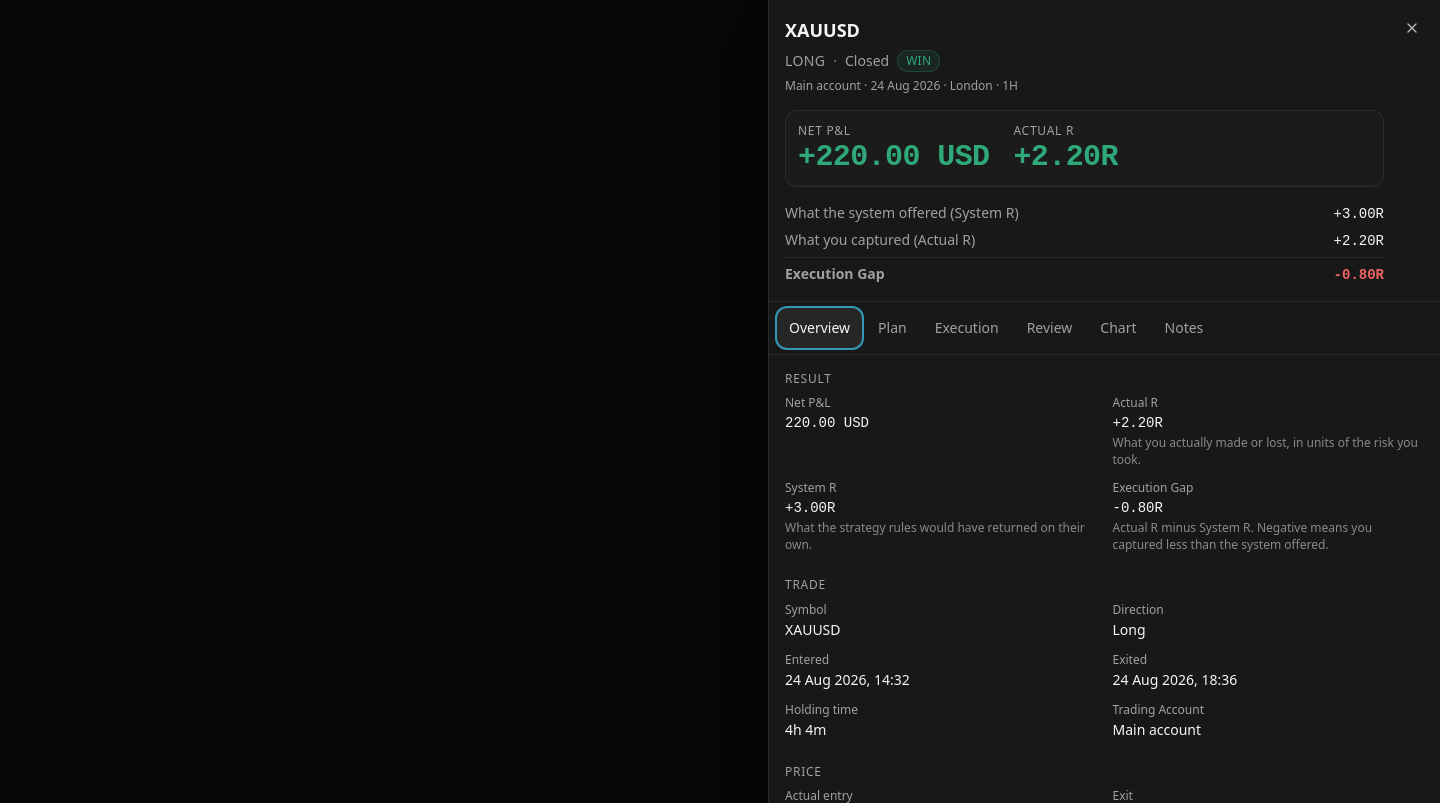
Trade Details — Plan and Confidence › reports an unrecorded Confidence honestly, and never fills it in from the result
The image size is (1440, 803).
Click the tab "Plan" at (892, 328), box [866,308,919,348]
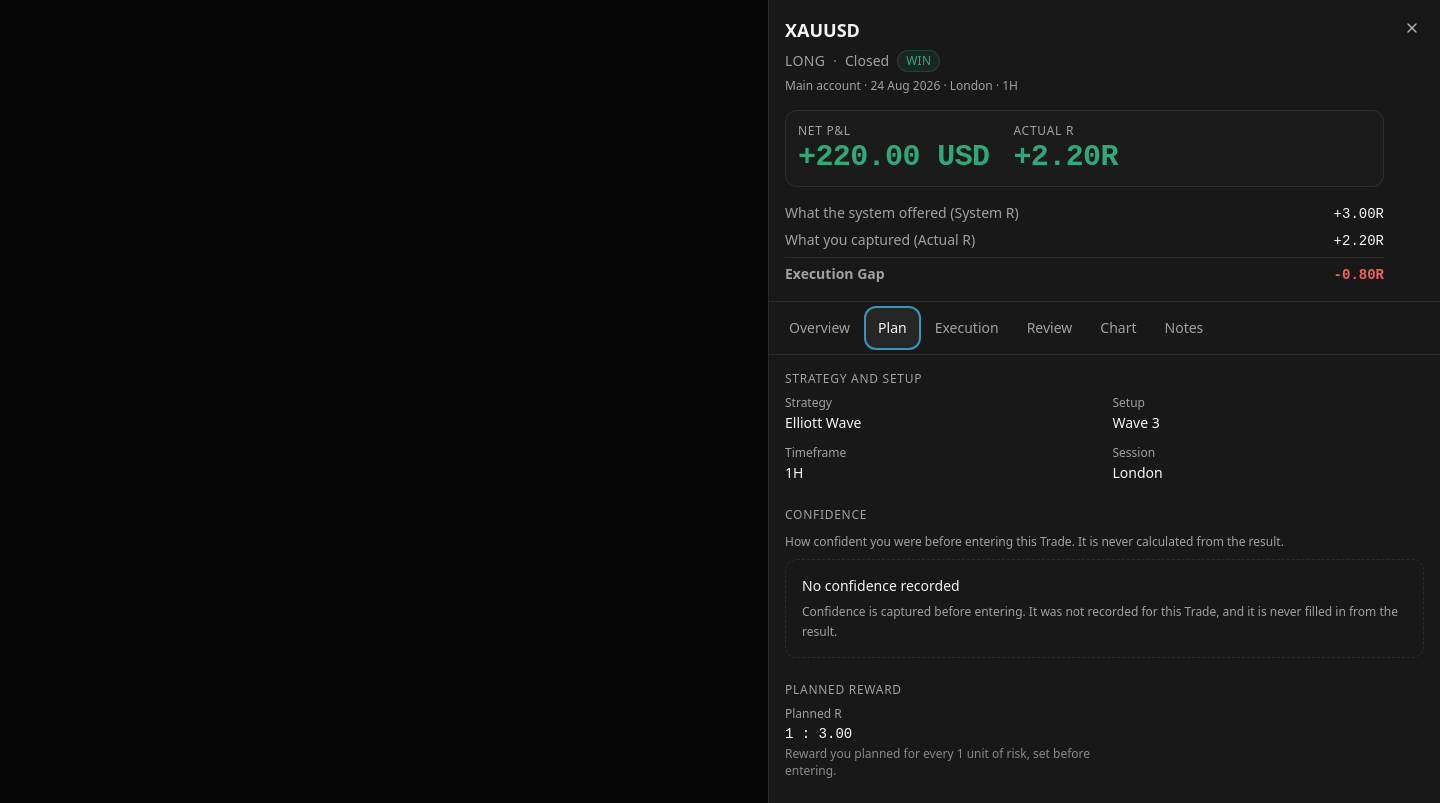
Expected: the text "No confidence recorded" is shown, [802,576,960,596]
Expected: the text "never filled in from the result" is shown, [802,603,1398,640]
